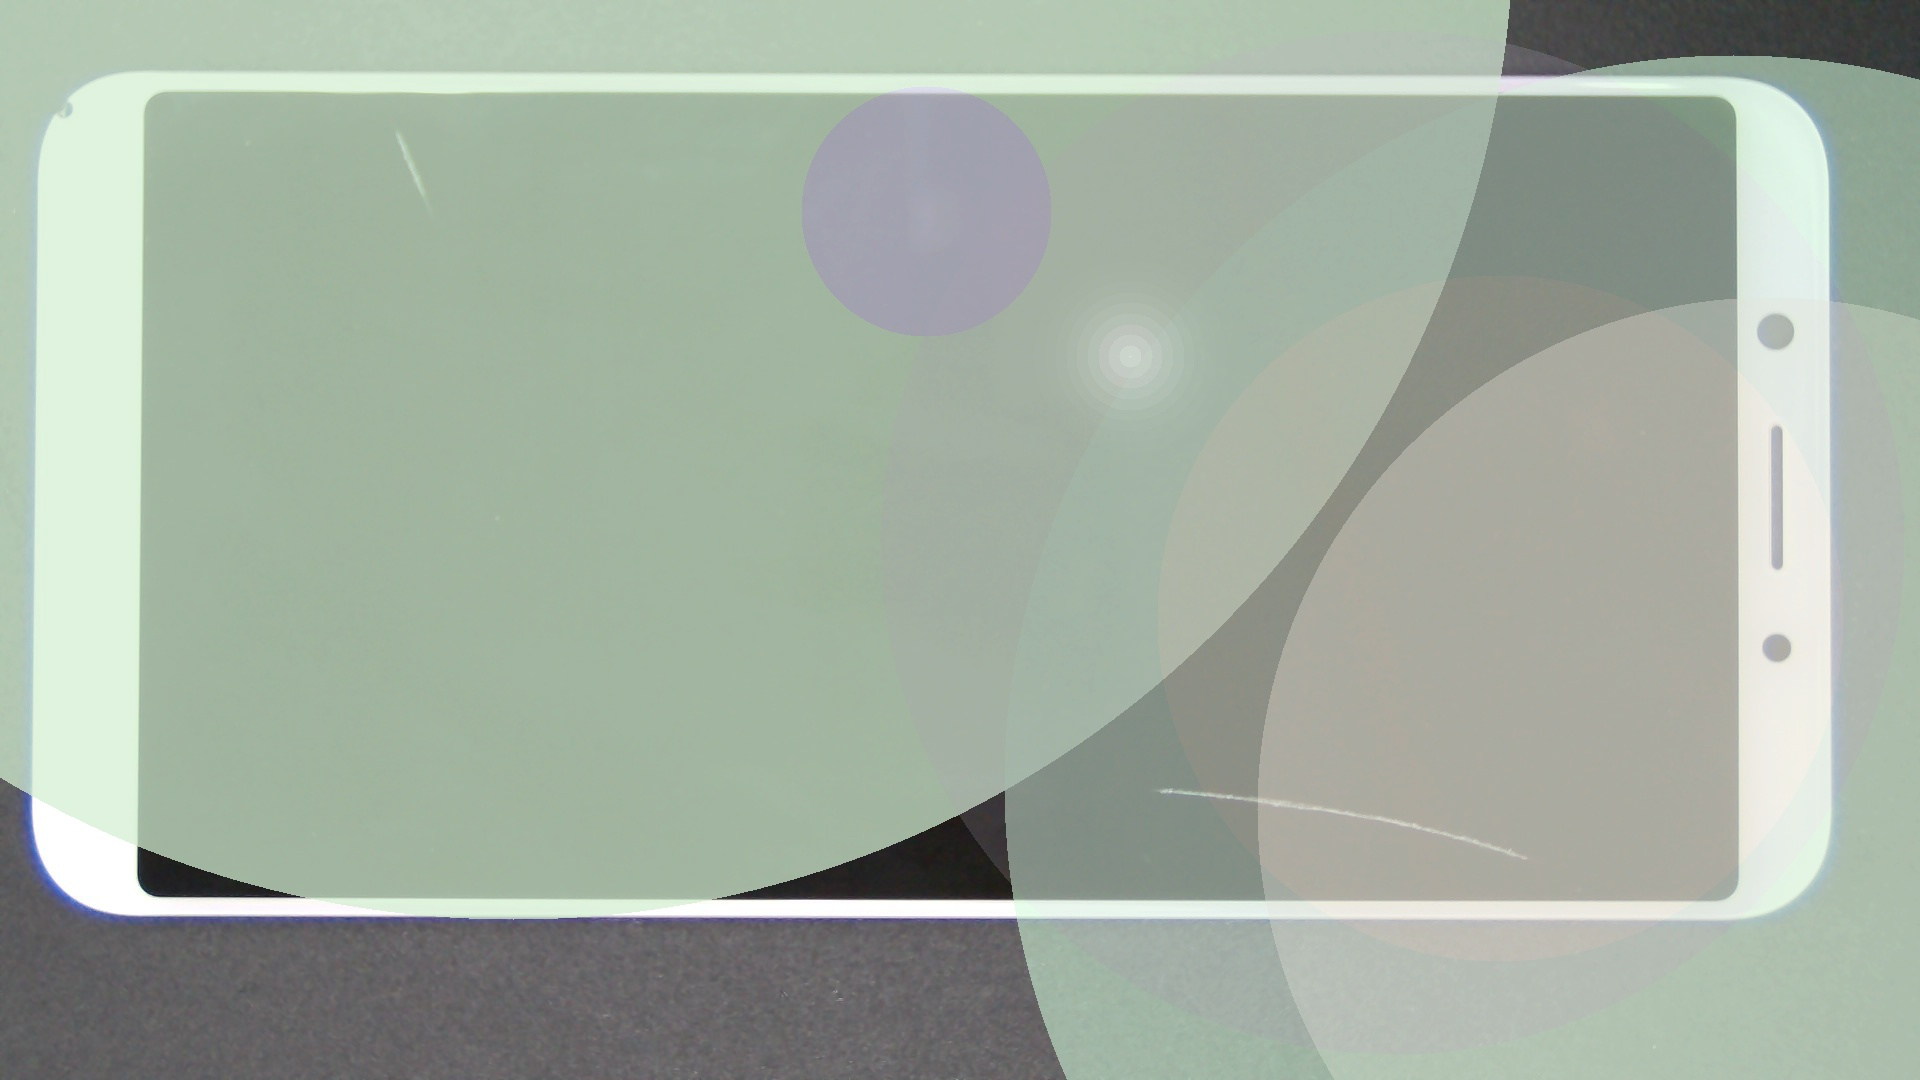oil: (583, 393, 1745, 1080), (199, 65, 596, 194)
